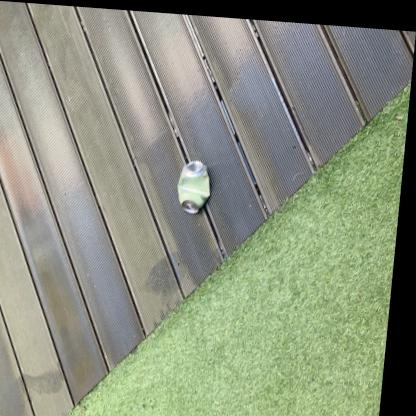trash: (177, 160, 209, 213)
